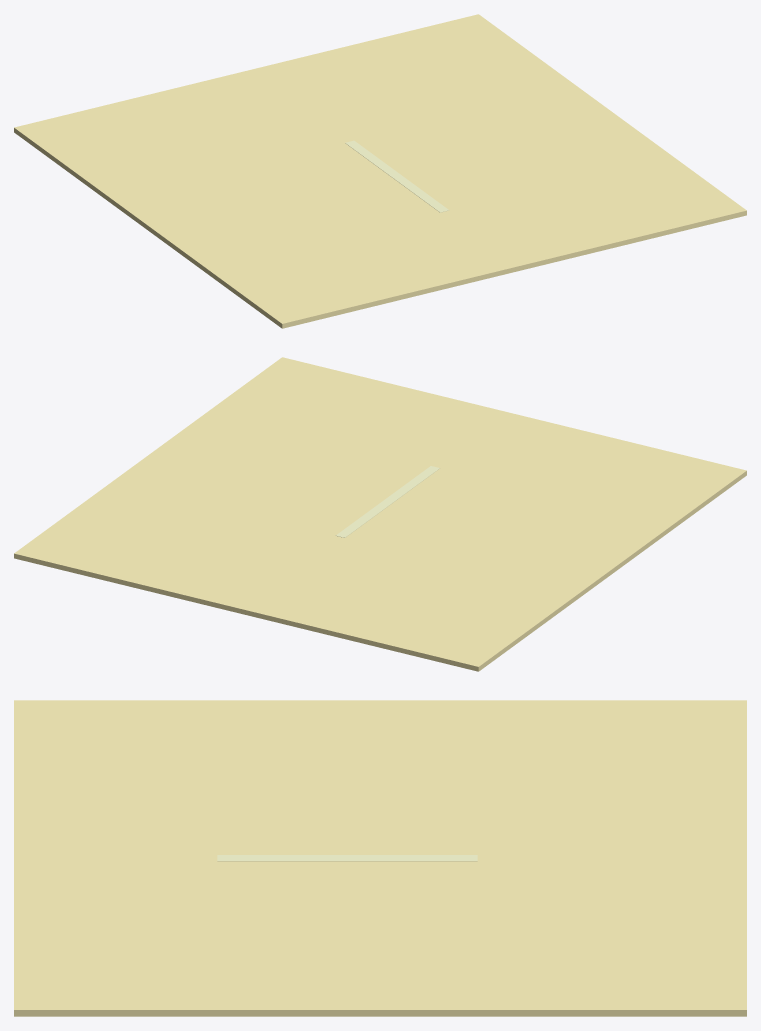
File: road_construction_plate_patch.glb
The picture shows the model from 3 angles, top to bottom: view 1: azimuth 30°, elevation 25°; view 2: azimuth 150°, elevation 25°; view 3: azimuth 270°, elevation 25°; orthographic projection. The views are drawn at different scales.
Visible parts, largest first — view 1: base, plate_joint; view 2: base, plate_joint; view 3: base, plate_joint.
Part boxes in pixels (<box>): base: <box>14,14,746,328</box>; plate_joint: <box>345,140,449,212</box>; base: <box>14,357,746,671</box>; plate_joint: <box>335,466,439,537</box>; base: <box>14,700,746,1016</box>; plate_joint: <box>217,855,477,861</box>.
Size of the model in its own units: 4 by 0.042 by 4.
